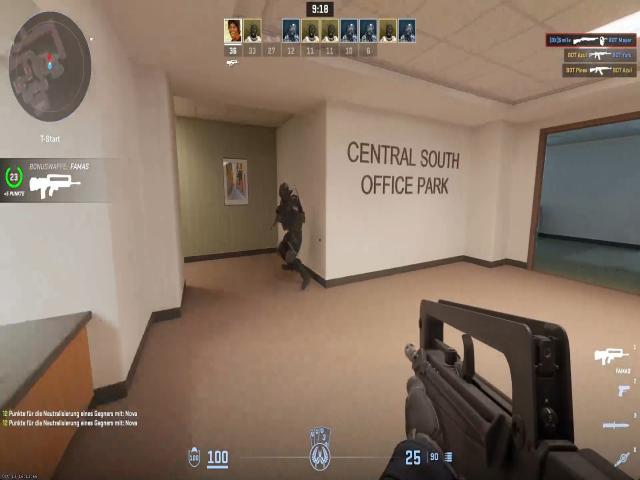CT: (272, 166, 307, 252)
CT-Head: (278, 180, 292, 201)
